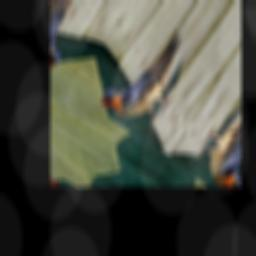Swallow: (95, 17, 207, 142)
